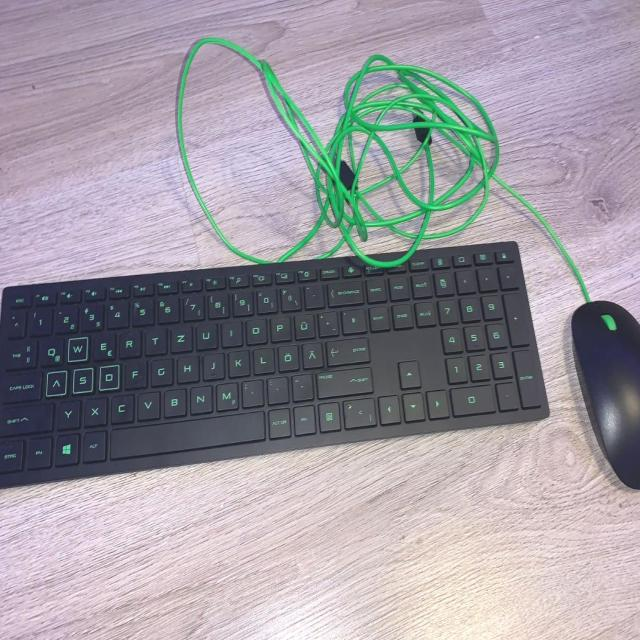0: (254, 285, 276, 312)
1: (27, 306, 50, 334)
2: (53, 303, 77, 332)
3: (79, 299, 102, 329)
4: (104, 298, 127, 326)
5: (130, 296, 153, 324)
6: (155, 295, 178, 322)
7: (180, 291, 203, 318)
8: (205, 290, 227, 317)
9: (230, 287, 252, 315)
a: (44, 368, 66, 395)
accent: (302, 281, 323, 307)
ae: (300, 339, 322, 367)
alt-left: (81, 428, 105, 461)
altgr-right: (266, 405, 290, 437)
b: (161, 385, 186, 415)
c: (109, 391, 133, 421)
caret: (5, 308, 24, 335)
comma: (239, 377, 262, 406)
d: (97, 362, 119, 389)
del: (325, 277, 363, 304)
e: (89, 328, 114, 359)
enter: (324, 335, 369, 363)
f: (122, 356, 146, 386)
g: (148, 355, 172, 384)
h: (175, 352, 198, 381)
hash: (340, 306, 366, 332)
i: (220, 318, 242, 345)
j: (202, 349, 224, 378)
k: (226, 347, 249, 376)
keyboard: (0, 234, 557, 489)
l: (251, 344, 274, 372)
less: (341, 396, 376, 427)
m: (214, 379, 237, 409)
minus: (290, 371, 313, 399)
n: (188, 382, 212, 413)
o: (244, 316, 266, 343)
oe: (275, 342, 298, 369)
p: (268, 313, 290, 340)
plus: (316, 308, 338, 335)
point: (265, 374, 288, 402)
q: (37, 334, 62, 365)
r: (117, 326, 140, 356)
s: (71, 365, 93, 391)
shift-left: (0, 399, 52, 433)
shift-lock: (0, 368, 40, 401)
shift-right: (315, 364, 372, 395)
space: (108, 410, 264, 457)
ss: (278, 283, 300, 309)
strg-left: (0, 437, 22, 471)
t: (142, 324, 166, 352)
tab: (0, 337, 35, 368)
u: (193, 319, 217, 348)
ue: (292, 310, 314, 337)
v: (135, 388, 159, 418)
w: (66, 334, 87, 360)
x: (82, 394, 106, 424)
y: (54, 396, 79, 427)
z: (168, 322, 192, 350)
